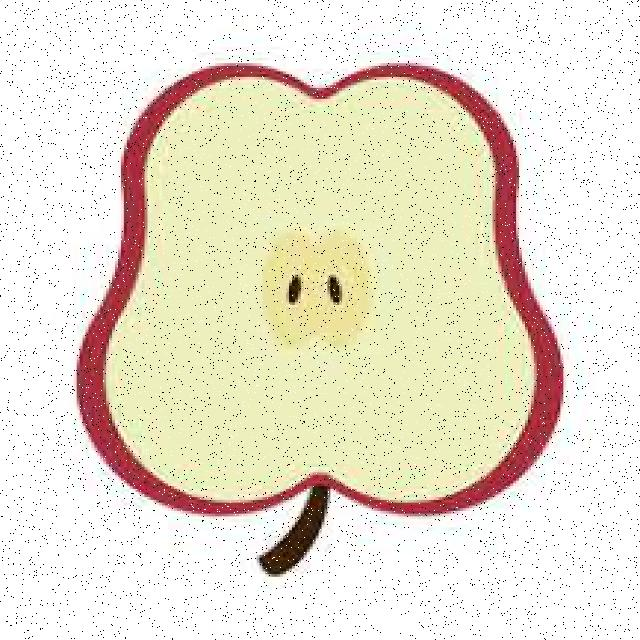Apple: (78, 64, 570, 518)
